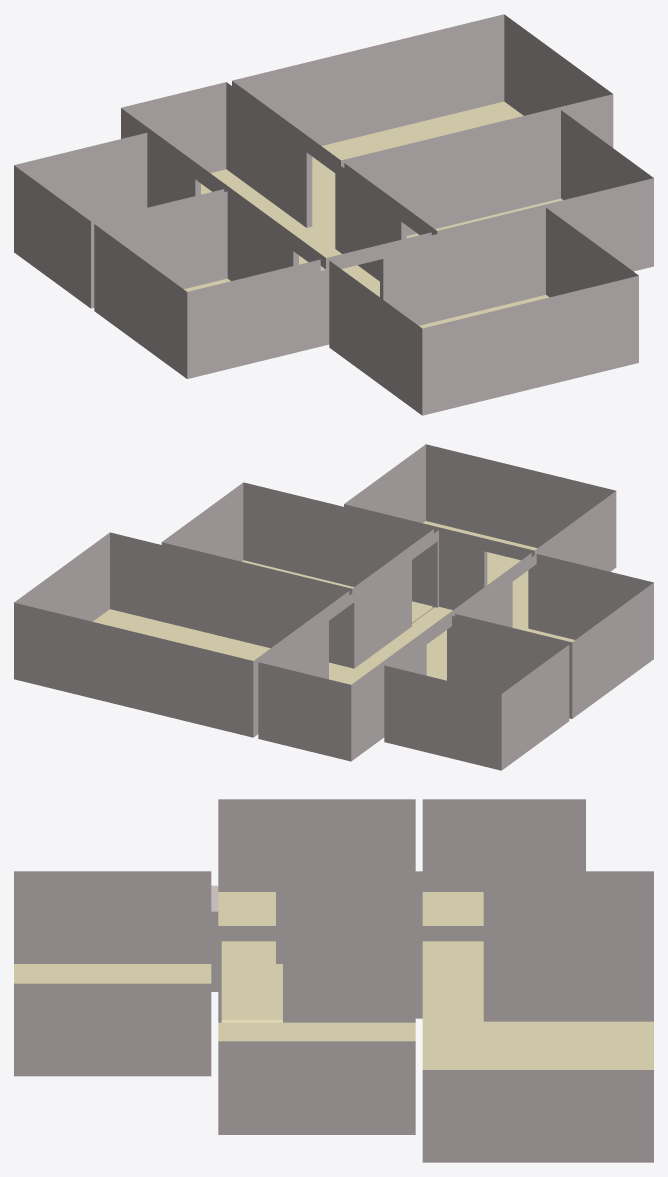
Rendered from cvartirafbx.fbx.
3 views of the same model, one above another, from view 1: azimuth 30°, elevation 25°; view 2: azimuth 150°, elevation 25°; view 3: azimuth 270°, elevation 25° (orthographic). The views are drawn at different scales.
Visible parts, largest first — view 1: kuhnia, zal, bathroom, my room, cladovka, prihozh, coridor; view 2: zal, cladovka, kuhnia, my room, bathroom, prihozh, coridor; view 3: zal, kuhnia, my room, bathroom, cladovka, prihozh, coridor.
Part boxes in pixels (<box>): kuhnia: <box>329,207,638,415</box>; zal: <box>232,14,613,245</box>; bathroom: <box>94,191,323,378</box>; my room: <box>344,110,653,271</box>; cladovka: <box>14,132,224,308</box>; prihozh: <box>121,82,336,259</box>; coridor: <box>231,163,431,345</box>; zal: <box>14,532,351,737</box>; cladovka: <box>384,616,569,770</box>; kuhnia: <box>344,444,616,626</box>; my room: <box>161,482,434,623</box>; bathroom: <box>455,554,653,718</box>; prihozh: <box>258,591,449,761</box>; coridor: <box>355,530,534,680</box>; zal: <box>422,929,653,1162</box>; kuhnia: <box>14,871,214,1076</box>; my room: <box>218,929,415,1134</box>; bathroom: <box>218,799,415,962</box>; cladovka: <box>422,799,585,962</box>; prihozh: <box>419,871,653,1019</box>; coridor: <box>215,871,418,1019</box>.
Size of the model in its own units: 9400 by 1521 by 9400.
